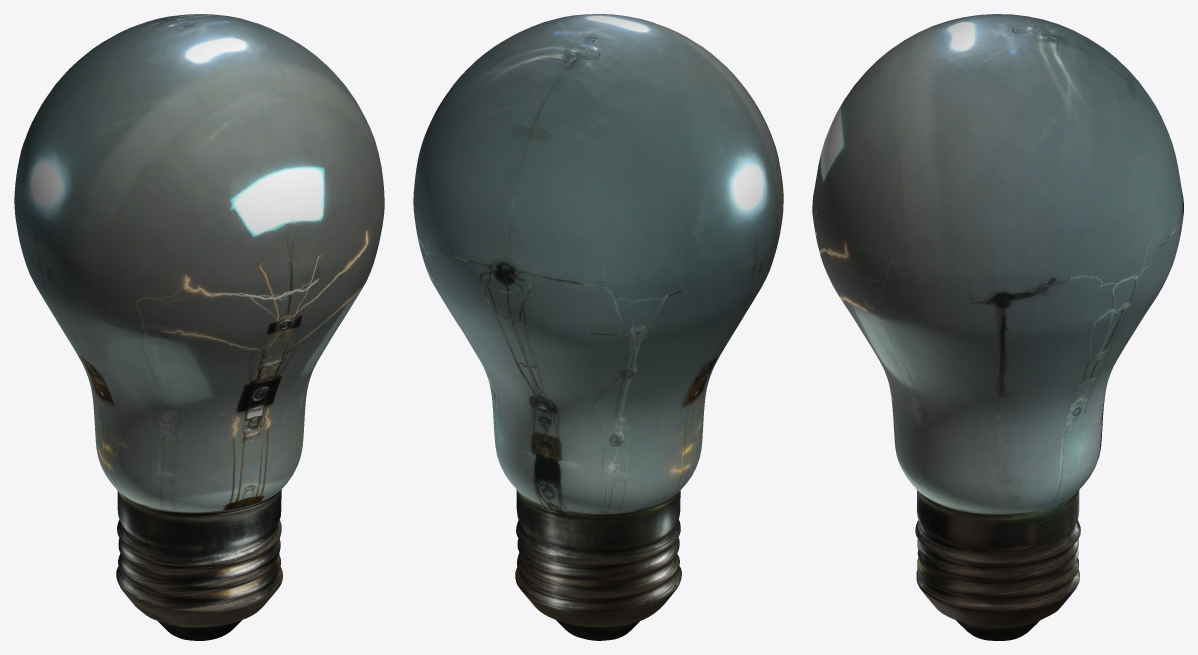
The model's file is COOKED2.fbx.
3 views of the same model, side by side, from view 1: azimuth 30°, elevation 25°; view 2: azimuth 150°, elevation 25°; view 3: azimuth 270°, elevation 25° (orthographic).
Parts seen in each view (by area): view 1: Mesh1_Mesh1.014; view 2: Mesh1_Mesh1.014; view 3: Mesh1_Mesh1.014.
Boxes of the visible parts, x1=… form: Mesh1_Mesh1.014: x1=14, y1=14, x2=384, y2=640; Mesh1_Mesh1.014: x1=413, y1=14, x2=783, y2=640; Mesh1_Mesh1.014: x1=812, y1=14, x2=1183, y2=640.
Size of the model in its own units: 112 by 200 by 112.
Materials: 1 (1 with a texture image).
